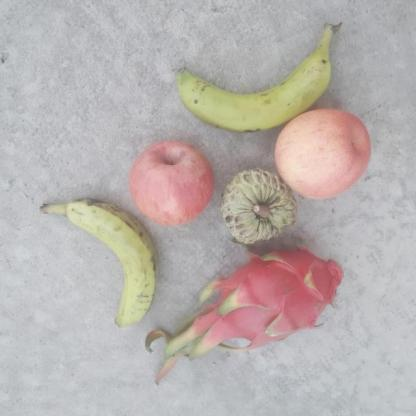annona: (215, 170, 298, 245)
apple: (276, 108, 377, 202), (128, 138, 213, 226)
banana: (36, 195, 158, 330), (172, 44, 334, 132)
pitaya: (215, 245, 343, 347)
